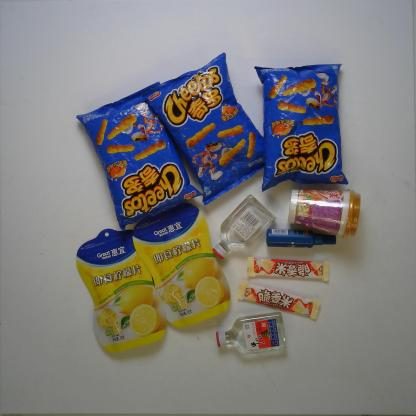Alcohol: (211, 193, 277, 260), (215, 310, 287, 356)
Chocolate: (236, 280, 322, 320), (246, 256, 331, 282)
Dried Fruit: (132, 201, 232, 329), (75, 228, 169, 354)
Instant Drink: (286, 186, 362, 238)
Personal Hygiene: (265, 228, 338, 250)
Puffed Food: (75, 80, 204, 231), (141, 51, 265, 206), (254, 62, 349, 192)
